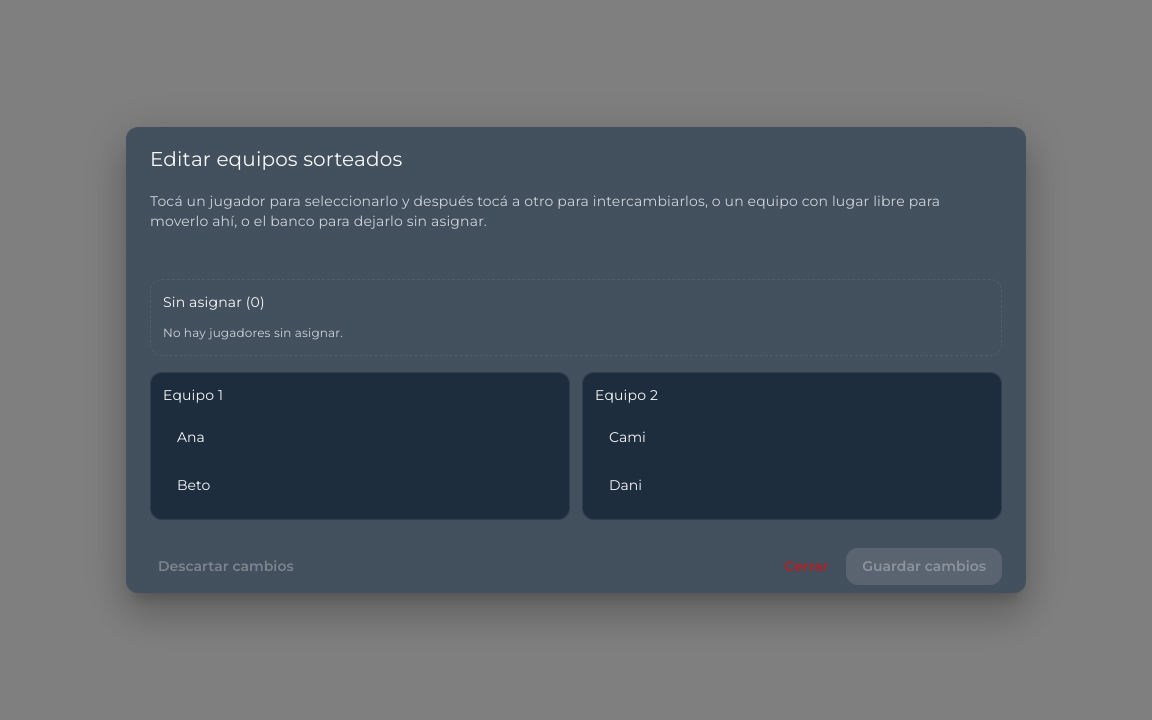
Scenario: TeamRosterEditor › tocar dos veces al mismo jugador lo deselecciona
This screenshot has width=1152, height=720.
Step 1. Click the button "Ana" → (191, 437), box left=163, top=415, right=557, bottom=459
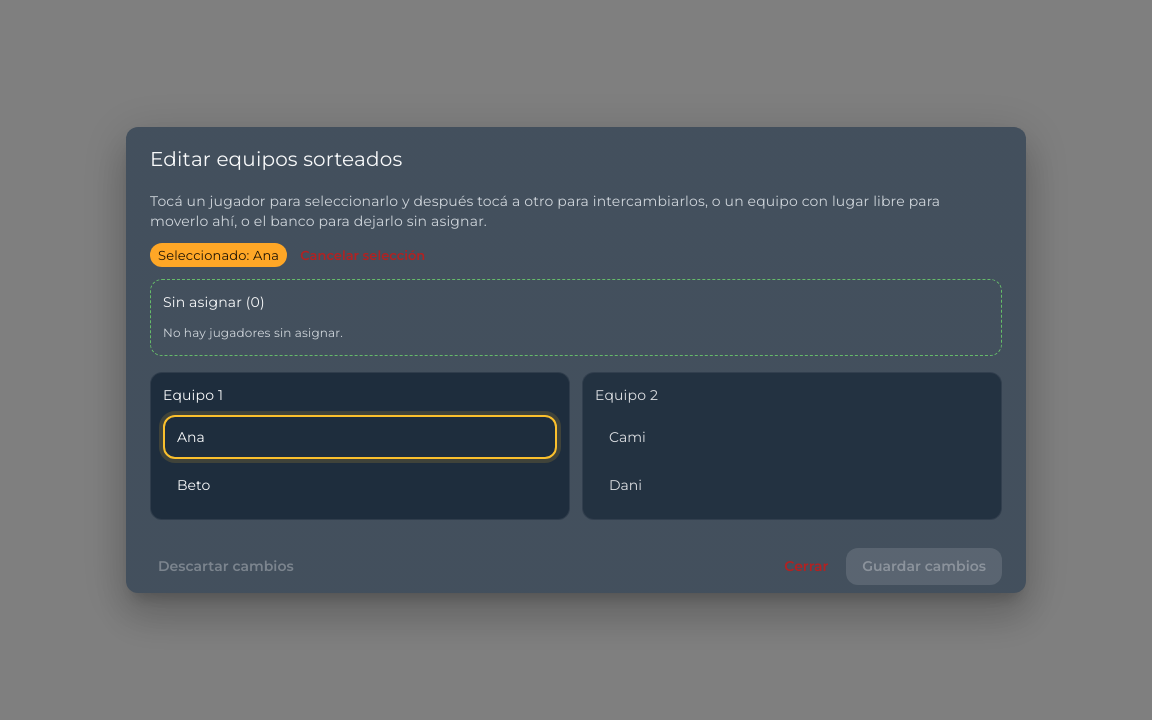
Now the text "Seleccionado: Ana" is shown, box left=150, top=246, right=287, bottom=265
Step 2. Click the button "Ana" → (191, 437), box left=163, top=415, right=557, bottom=459
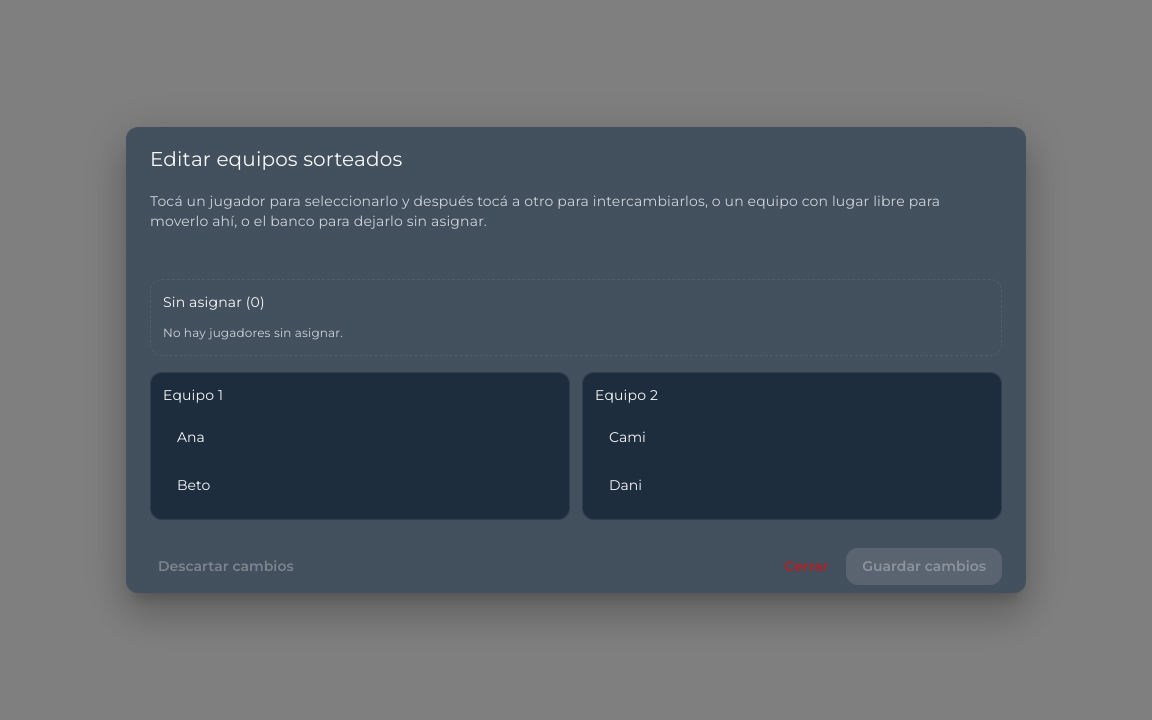
Now the text "Seleccionado: Ana" is gone
